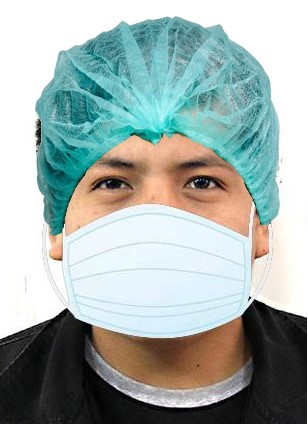with_mask_and_cap: (35, 17, 273, 341)
